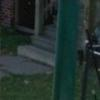stairs: (16, 19, 58, 67)
